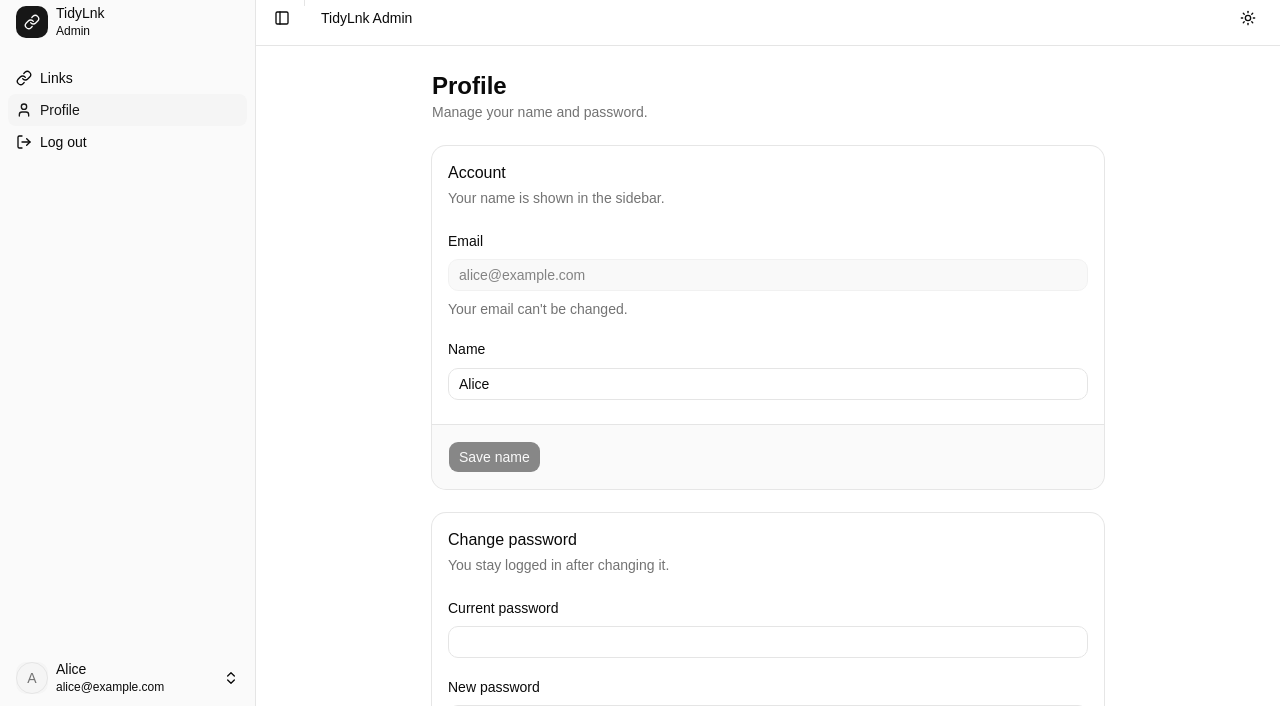
Test: Profile page › shows 403 on the current password field
The image size is (1280, 706).
Type "wrong-password" into the password field labelled "Current password". click: (768, 642)
box: [448, 626, 1088, 658]
(page scrolled)
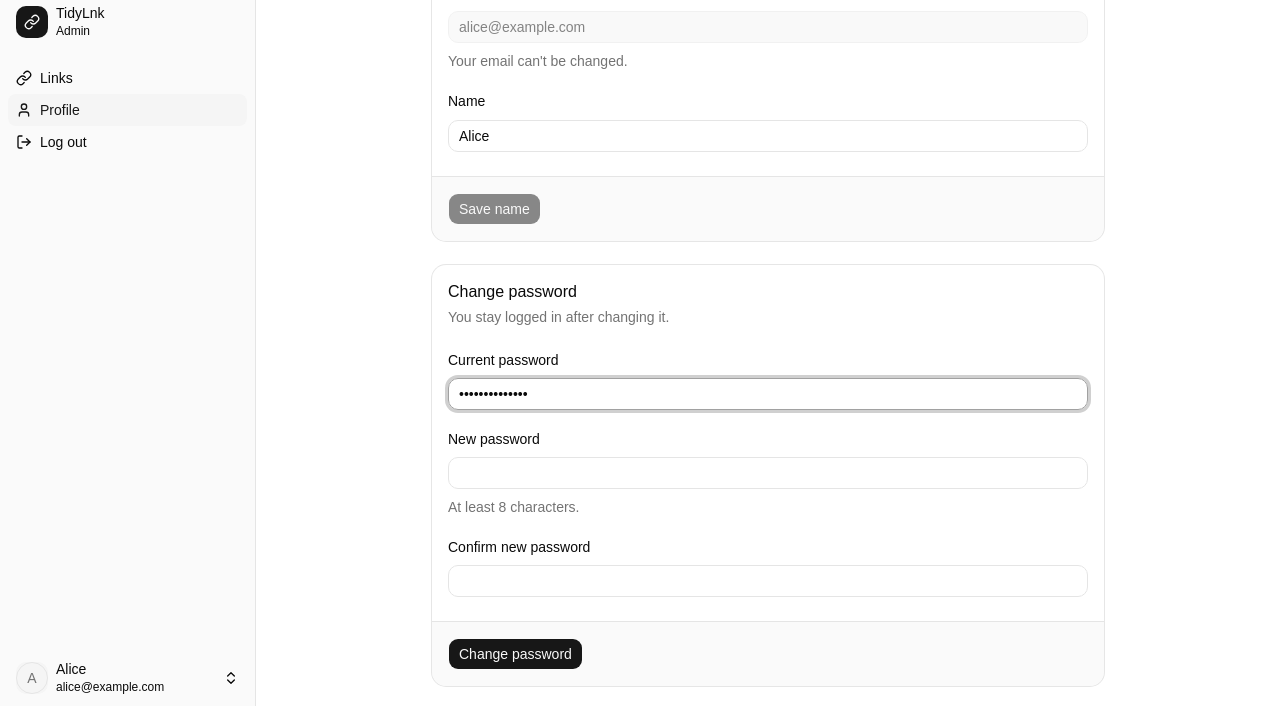
Type "new-password" into the password field labelled "New password". click: (768, 473)
box: [448, 457, 1088, 489]
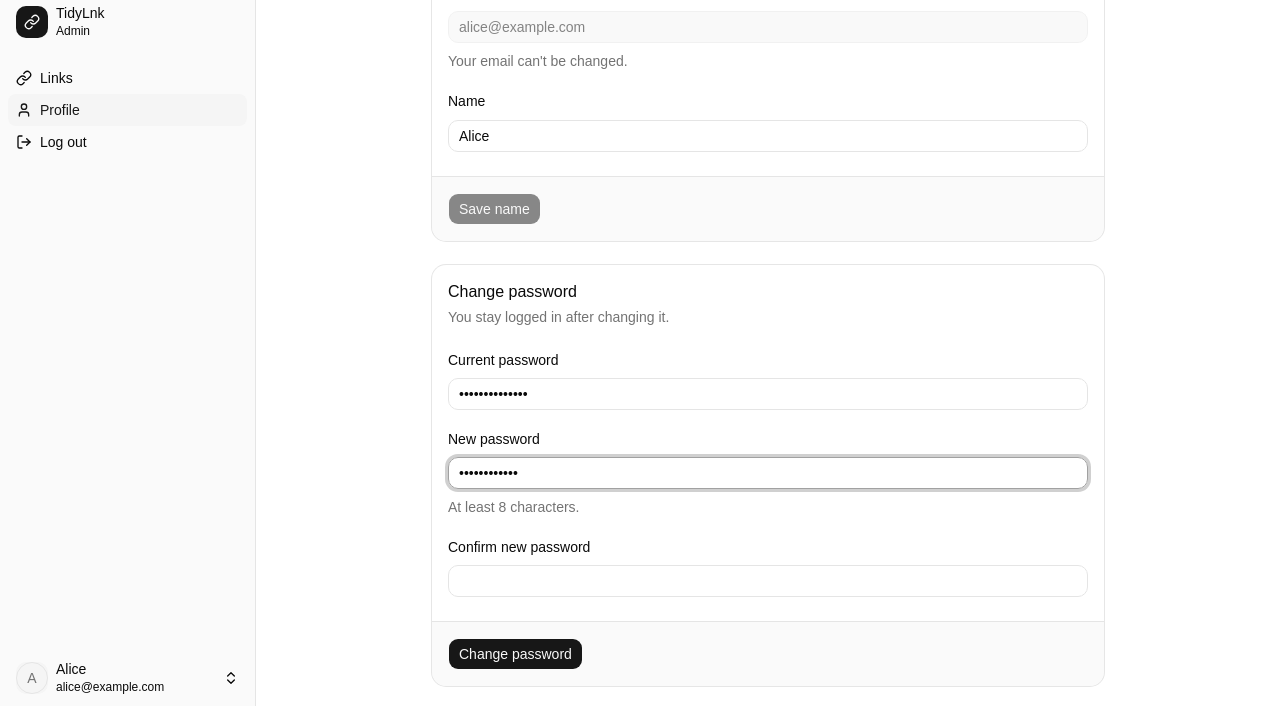
Type "new-password" into the password field labelled "Confirm new password". click: (768, 581)
box: [448, 565, 1088, 597]
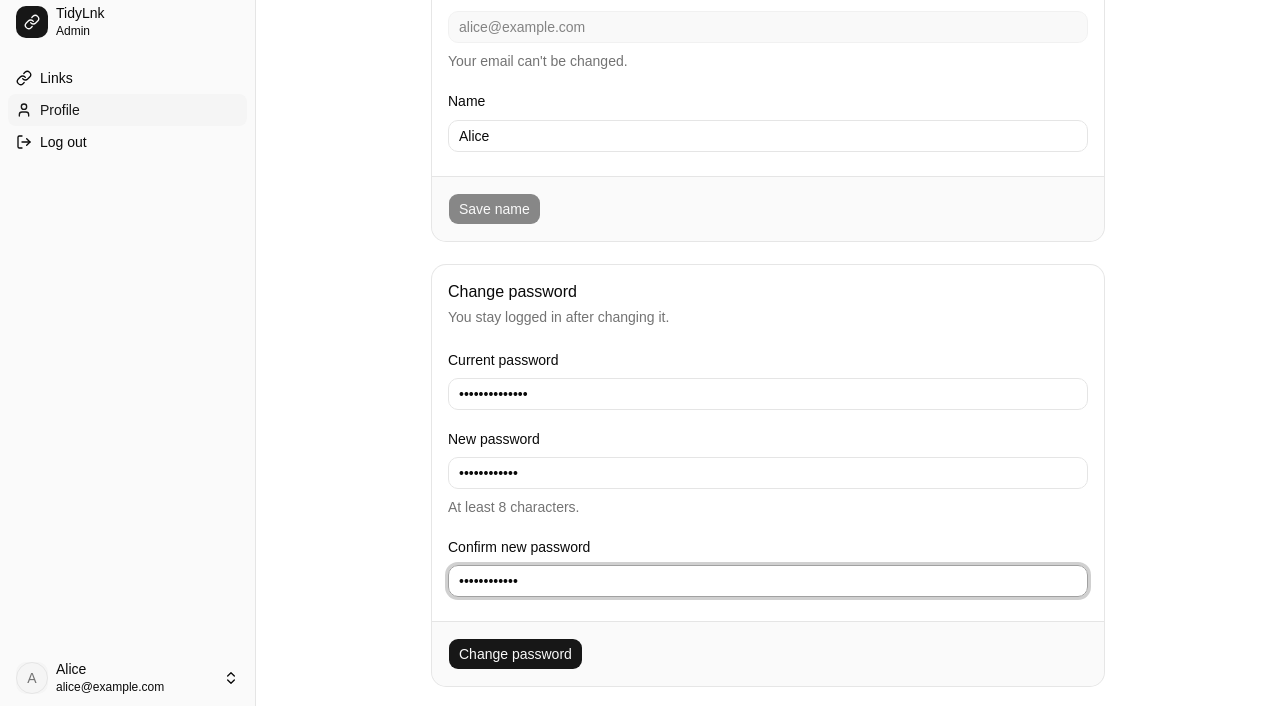
Click the button "Change password". click: (515, 654)
box: [448, 638, 583, 670]
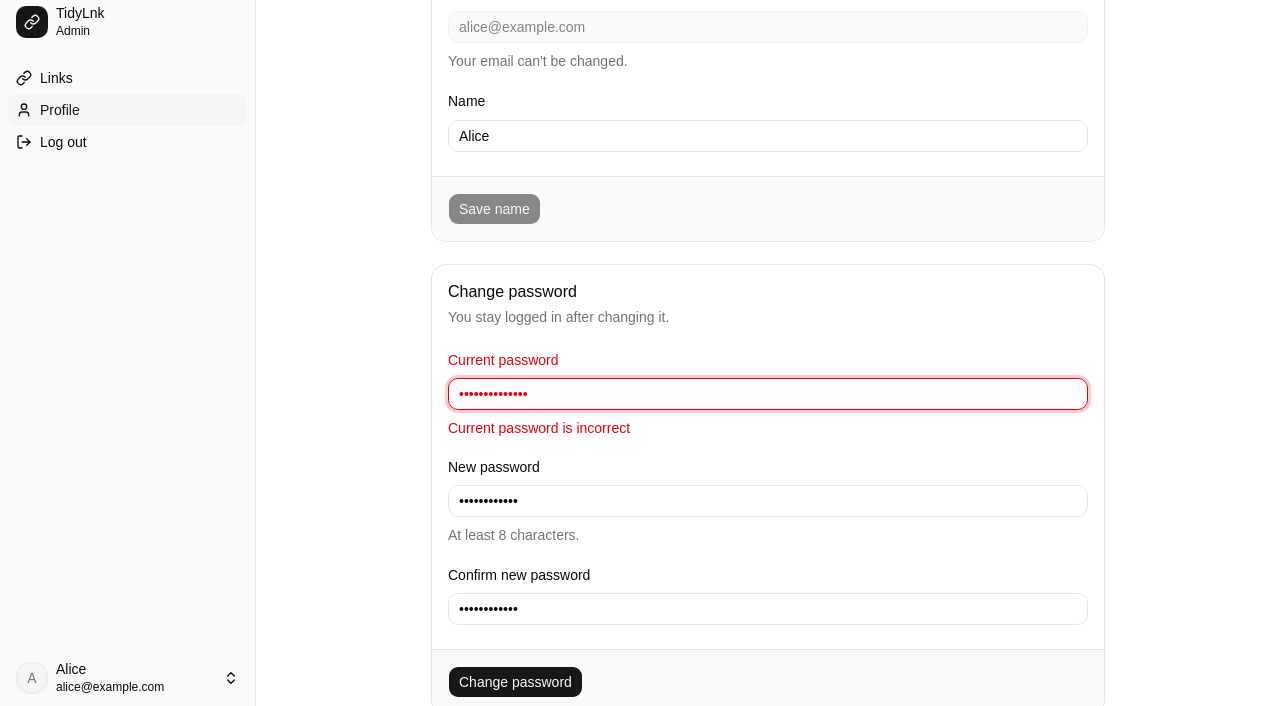
Result: the text "Current password is incorrect" is shown at [448, 420, 630, 436]
